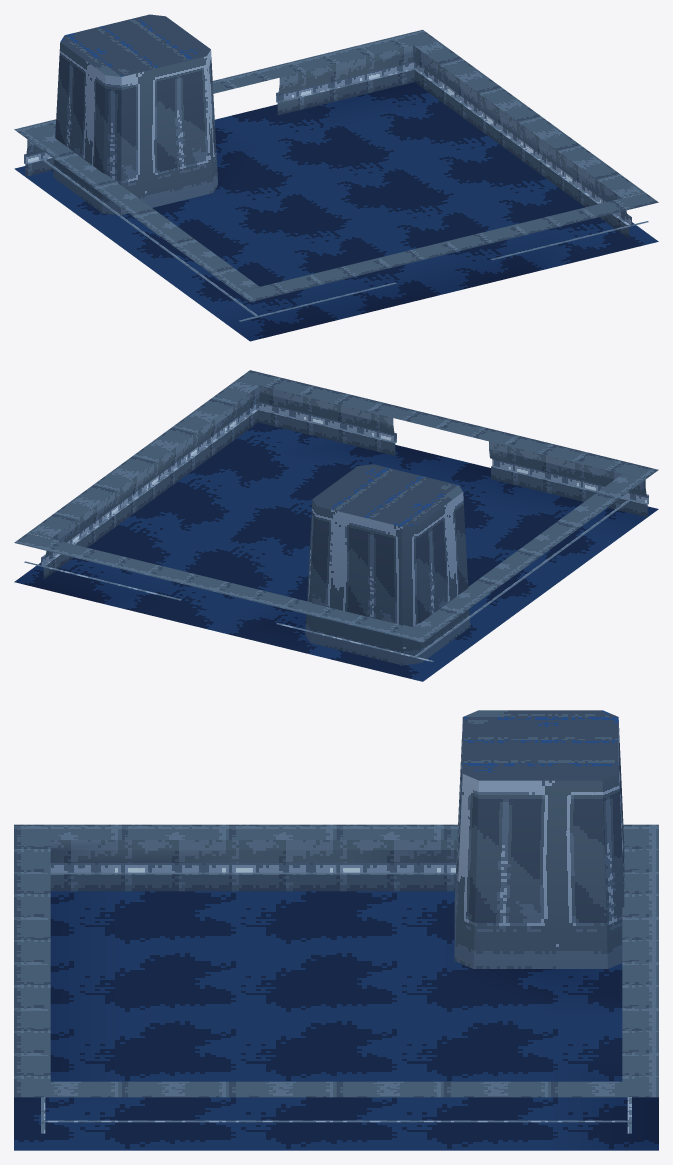
File: cyroom.rooftop.glb
The picture shows the model from 3 angles, top to bottom: view 1: azimuth 30°, elevation 25°; view 2: azimuth 150°, elevation 25°; view 3: azimuth 270°, elevation 25°; orthographic projection. The views are drawn at different scales.
Visible parts, largest first — view 1: kit_shell_floor, kit_shell_walls, kit_trim; view 2: kit_shell_floor, kit_shell_walls, kit_trim; view 3: kit_shell_floor, kit_shell_walls, kit_trim.
Part boxes in pixels (x1,y1,x2,y2): kit_shell_floor: [14, 82, 658, 341]; kit_shell_walls: [14, 29, 658, 321]; kit_trim: [53, 14, 217, 215]; kit_shell_floor: [14, 422, 658, 681]; kit_shell_walls: [14, 370, 658, 661]; kit_trim: [305, 464, 470, 665]; kit_shell_floor: [14, 891, 658, 1150]; kit_shell_walls: [14, 824, 658, 1133]; kit_trim: [454, 710, 624, 968].
Size of the model in its own units: 12 by 3.8 by 12.
Materials: 5 (5 with a texture image).
